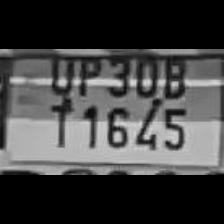0: (130, 50, 159, 96)
1: (76, 97, 100, 150)
3: (101, 49, 131, 97)
4: (132, 95, 158, 151)
5: (158, 100, 188, 150)
6: (101, 99, 131, 150)
B: (160, 49, 188, 97)
P: (73, 50, 103, 96)
T: (41, 93, 76, 149)
U: (41, 50, 76, 96)
